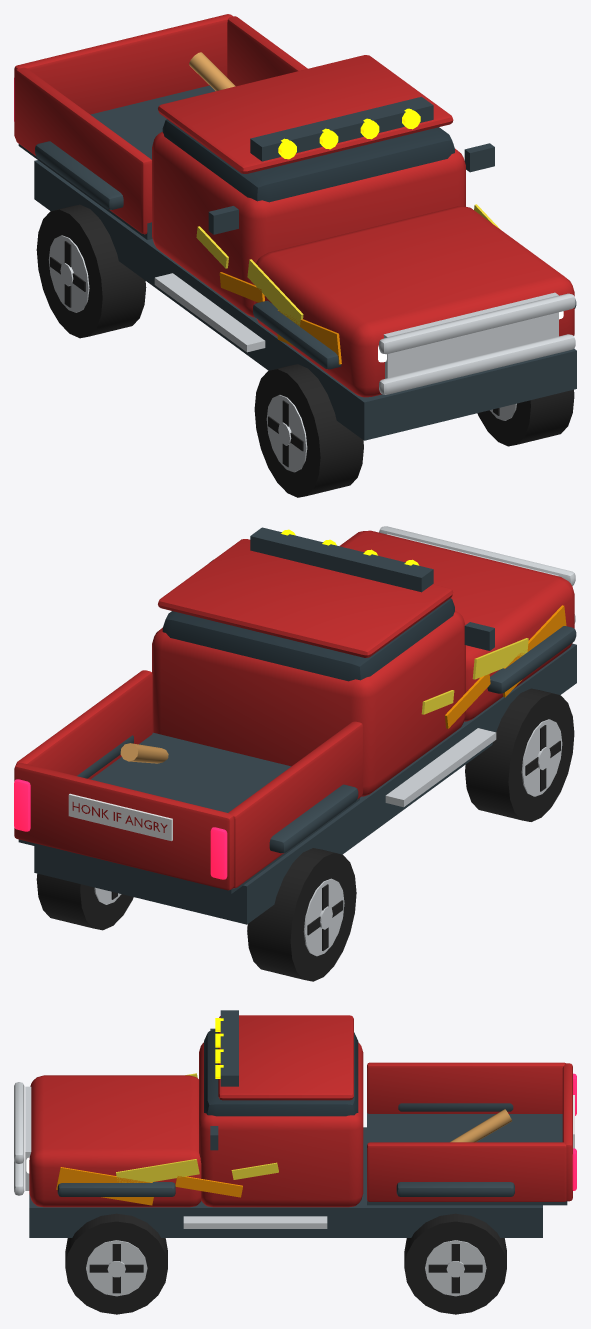
Rendered from underworld_rager.glb.
3 renders of one model, top to bottom at view 1: azimuth 30°, elevation 25°; view 2: azimuth 150°, elevation 25°; view 3: azimuth 270°, elevation 25°, orthographic. The views are drawn at different scales.
Visible parts, largest first — view 1: UWRager_body, Wheel_RR, Wheel_FR, Wheel_FL; view 2: UWRager_body, Wheel_RR, Wheel_FR, Wheel_RL; view 3: UWRager_body, Wheel_RL, Wheel_FL.
Part boxes in pixels (box(x1,y1,x2,y2)): UWRager_body: box(14, 14, 576, 440); Wheel_RR: box(36, 204, 146, 338); Wheel_FR: box(254, 364, 363, 497); Wheel_FL: box(477, 389, 574, 446); UWRager_body: box(14, 526, 576, 924); Wheel_RR: box(247, 848, 356, 981); Wheel_FR: box(465, 688, 574, 821); Wheel_RL: box(36, 873, 133, 930); UWRager_body: box(14, 1010, 576, 1237); Wheel_RL: box(404, 1213, 506, 1314); Wheel_FL: box(65, 1213, 167, 1314).
Bounding box in the file's own units: 2.46 × 2.41 × 5.48.
